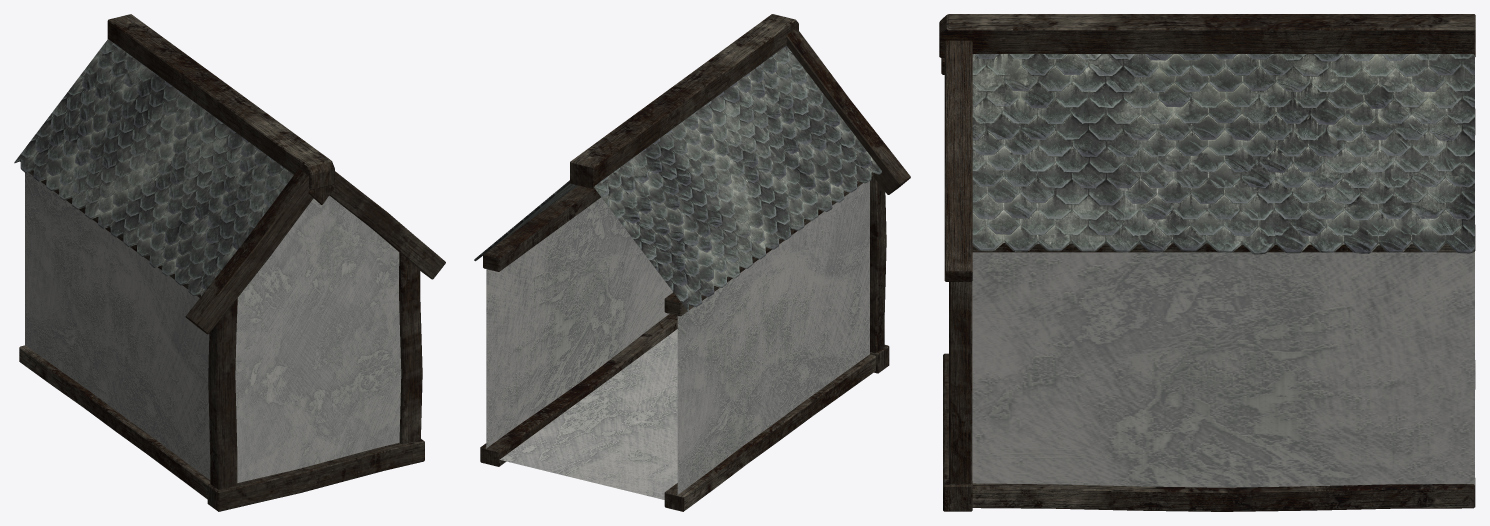
Rendered from WallRoofSmall.fbx.
3 renders of one model, left to right at view 1: azimuth 30°, elevation 25°; view 2: azimuth 150°, elevation 25°; view 3: azimuth 270°, elevation 25°, orthographic. The views are drawn at different scales.
Parts seen in each view (by area): view 1: White Wall Roof Small; view 2: White Wall Roof Small; view 3: White Wall Roof Small.
Part boxes in pixels (x1=…): White Wall Roof Small: x1=14, y1=14, x2=445, y2=511; White Wall Roof Small: x1=474, y1=14, x2=910, y2=511; White Wall Roof Small: x1=939, y1=14, x2=1475, y2=511.
Size of the model in its own units: 264 by 326 by 372.
